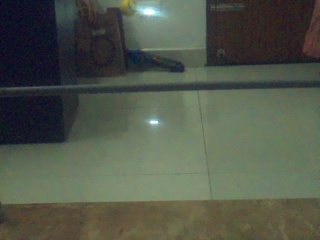ball: (119, 0, 137, 16)
